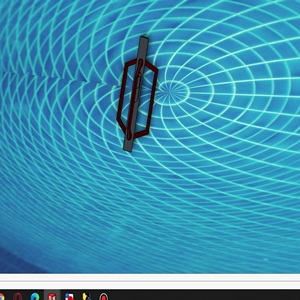submarine: (118, 37, 156, 148)
